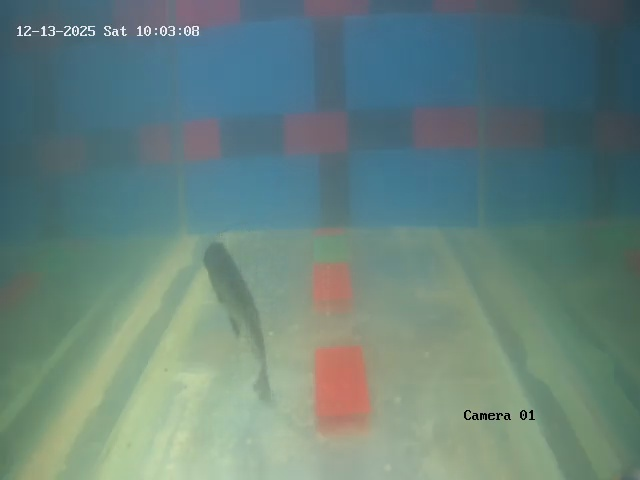fish: (196, 241, 265, 355)
